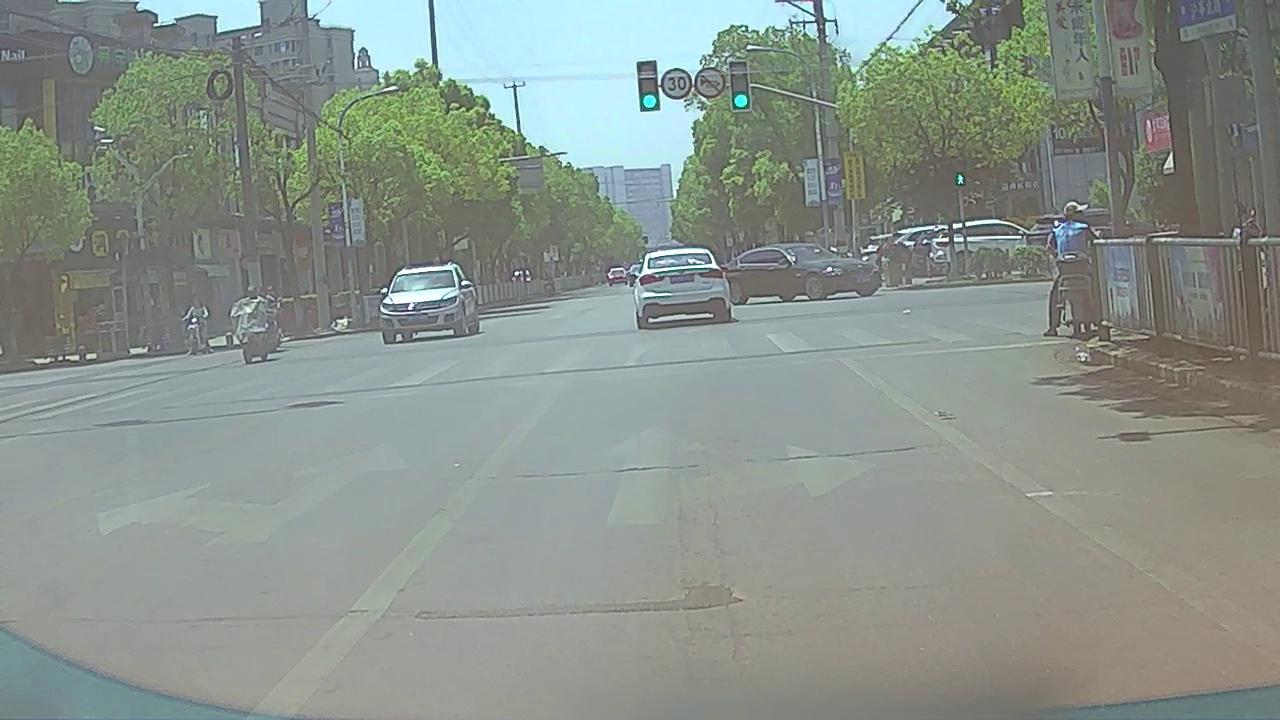traffic_light: (638, 62, 659, 112), (730, 62, 751, 112)
